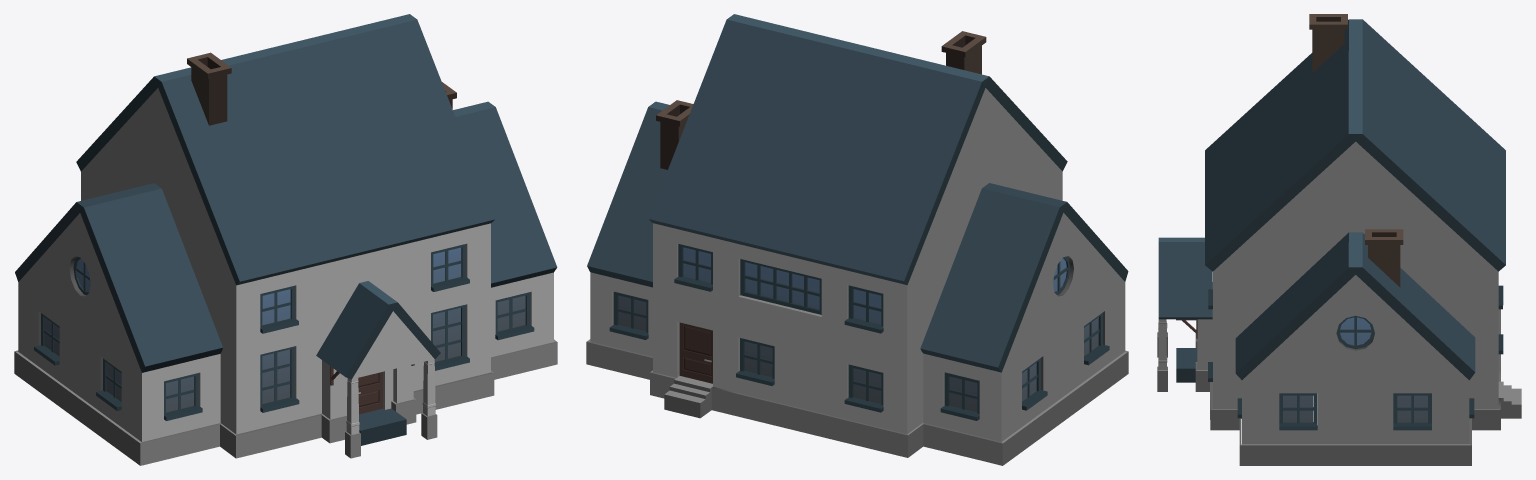
The model's file is buildings-residential-largefamilyhome_v4.glb.
The picture shows the model from 3 angles, left to right: view 1: azimuth 30°, elevation 25°; view 2: azimuth 150°, elevation 25°; view 3: azimuth 270°, elevation 25°; orthographic projection. The views are drawn at different scales.
Parts seen in each view (by area): view 1: LargeFamilyHome_v4_base, LargeFamilyHome_v4_windowRefl; view 2: LargeFamilyHome_v4_base, LargeFamilyHome_v4_windowRefl; view 3: LargeFamilyHome_v4_base, LargeFamilyHome_v4_windowRefl.
Part boxes in pixels (left/top/right/bottom): LargeFamilyHome_v4_base: left=14, top=14, right=557, bottom=465; LargeFamilyHome_v4_windowRefl: left=45, top=247, right=525, bottom=412; LargeFamilyHome_v4_base: left=586, top=14, right=1128, bottom=465; LargeFamilyHome_v4_windowRefl: left=618, top=247, right=1098, bottom=411; LargeFamilyHome_v4_base: left=1157, top=14, right=1521, bottom=465; LargeFamilyHome_v4_windowRefl: left=1283, top=317, right=1427, bottom=422.
Bounding box in the file's own units: 17.94 × 13.81 × 14.61.
